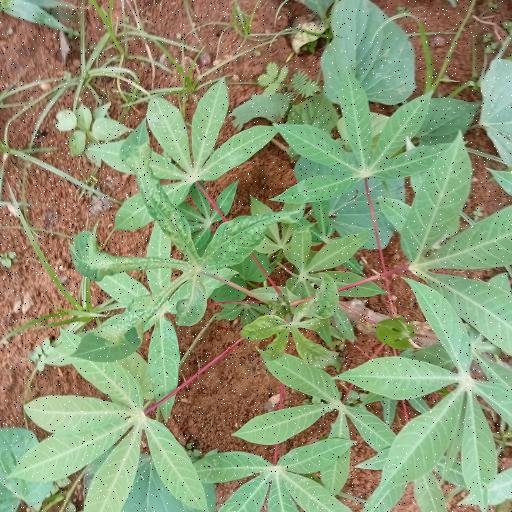Cassava_Mosaic: (70, 114, 279, 363), (16, 363, 196, 512), (289, 68, 472, 204), (202, 444, 366, 512)
